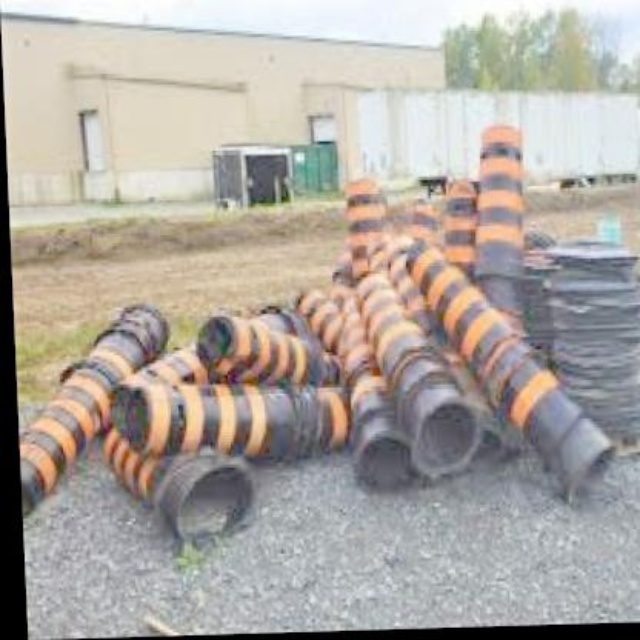obstacle: (459, 119, 531, 284)
